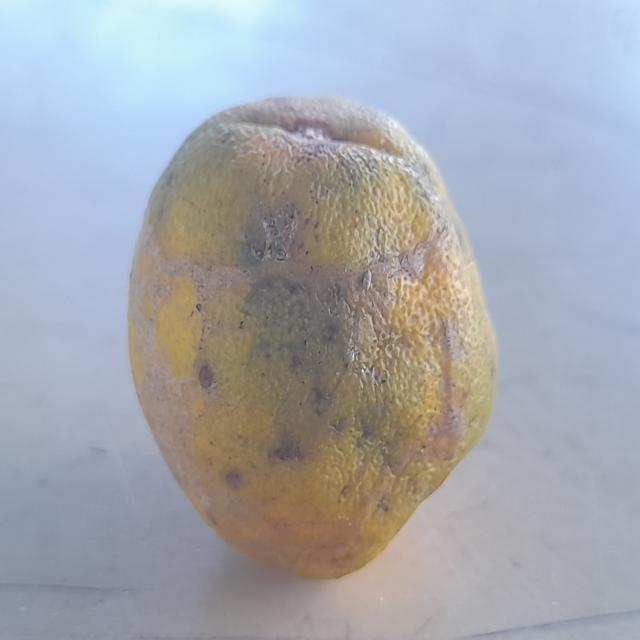black spot: (99, 96, 489, 590)
